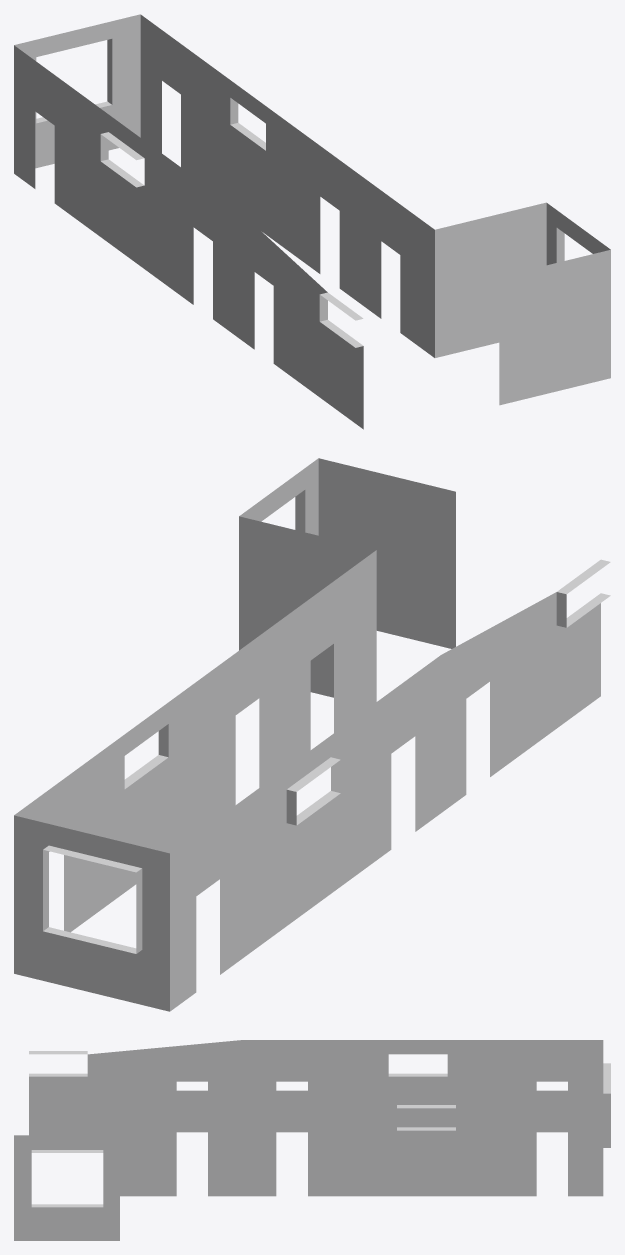
File: LouDao-59.FBX
3 views of the same model, one above another, from view 1: azimuth 30°, elevation 25°; view 2: azimuth 150°, elevation 25°; view 3: azimuth 270°, elevation 25° (orthographic). The views are drawn at different scales.
Visible parts, largest first — view 1: LouDao-59; view 2: LouDao-59; view 3: LouDao-59.
Part boxes in pixels (x1,y1,x2,y2): LouDao-59: (14,14,610,429); LouDao-59: (14,458,610,1011); LouDao-59: (14,1040,610,1240).
Bounding box in the file's own units: 6.84 × 3.3 × 16.92.
1 material, 1 textured.
